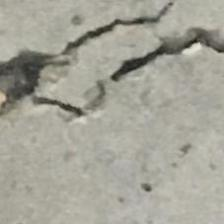Crack: (0, 14, 224, 132)
